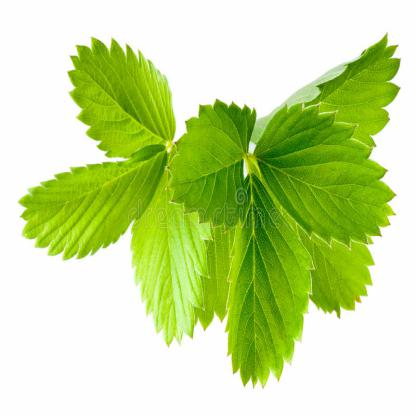strawberry leaf: (250, 102, 395, 255), (222, 182, 315, 391), (12, 146, 170, 267), (64, 31, 183, 160), (129, 160, 209, 345), (163, 88, 258, 228)
